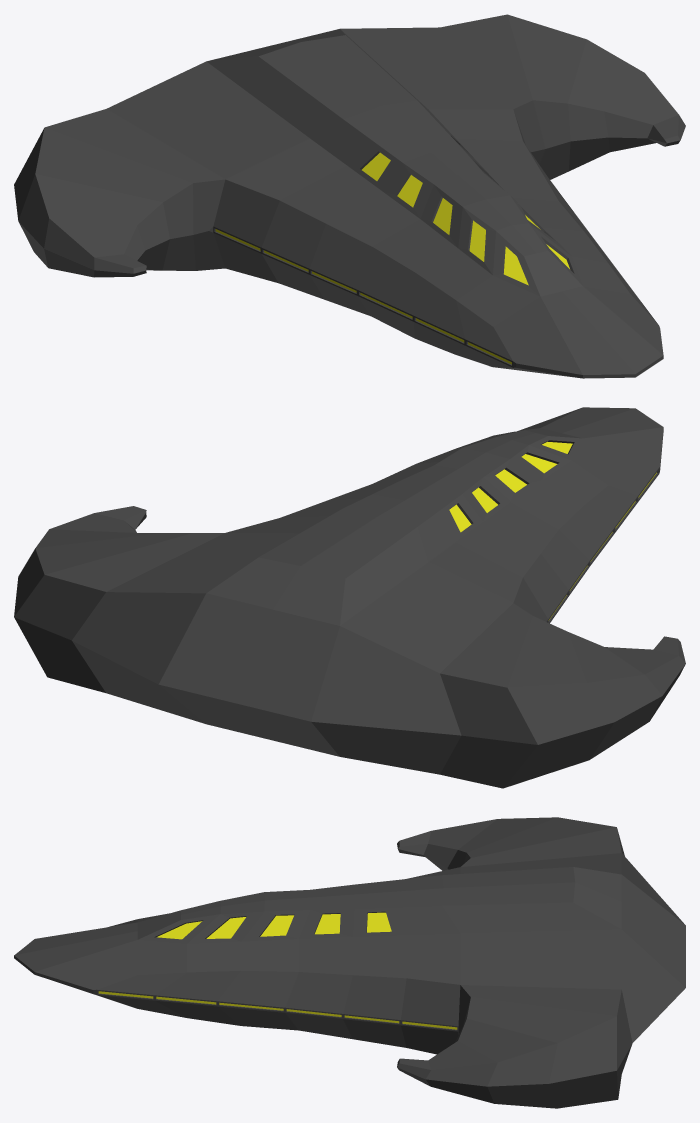
Rendered from EnemyShip1.fbx.
3 renders of one model, top to bottom at view 1: azimuth 30°, elevation 25°; view 2: azimuth 150°, elevation 25°; view 3: azimuth 270°, elevation 25°, orthographic. The views are drawn at different scales.
Parts seen in each view (by area): view 1: EnemyShip1; view 2: EnemyShip1; view 3: EnemyShip1.
Boxes of the visible parts, x1=… form: EnemyShip1: x1=14, y1=14, x2=685, y2=378; EnemyShip1: x1=14, y1=407, x2=685, y2=788; EnemyShip1: x1=14, y1=817, x2=685, y2=1108.
Size of the model in its own units: 72.1 by 17.18 by 80.92.
